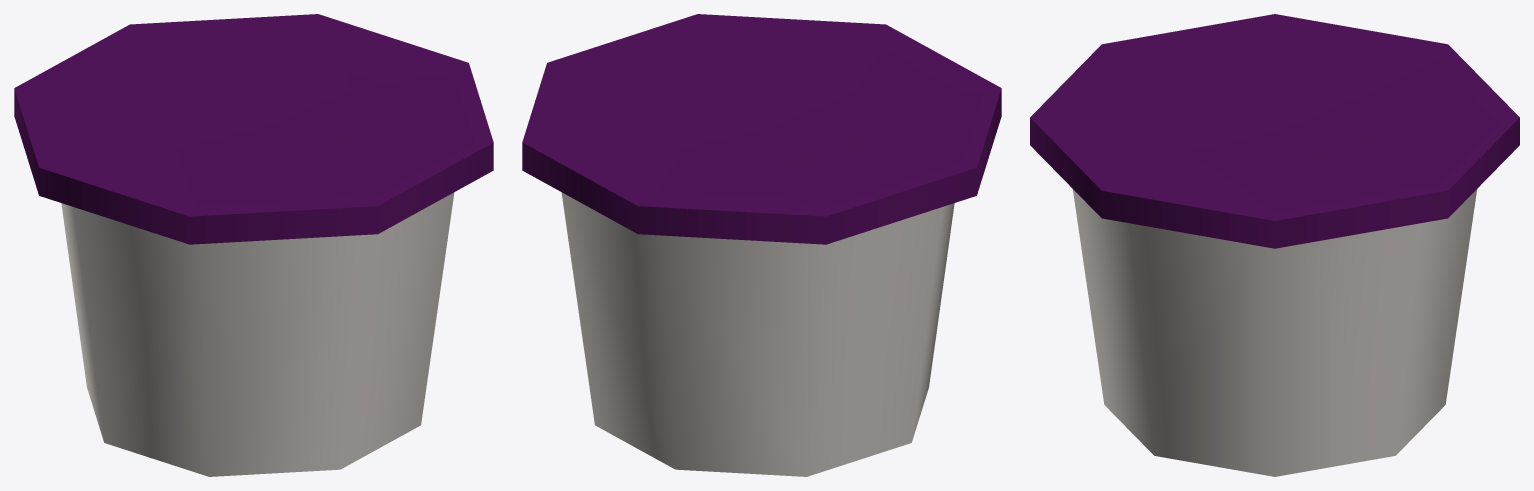
Rendered from Produce_Yogurt.fbx.
3 renders of one model, left to right at view 1: azimuth 30°, elevation 25°; view 2: azimuth 150°, elevation 25°; view 3: azimuth 270°, elevation 25°, orthographic.
Parts seen in each view (by area): view 1: Cylinder003; view 2: Cylinder003; view 3: Cylinder003.
Part boxes in pixels (x1,y1,x2,y2): Cylinder003: [14, 14, 493, 476]; Cylinder003: [522, 14, 1001, 476]; Cylinder003: [1030, 14, 1519, 476].
Bounding box in the file's own units: 10.17 × 6.58 × 10.17.
